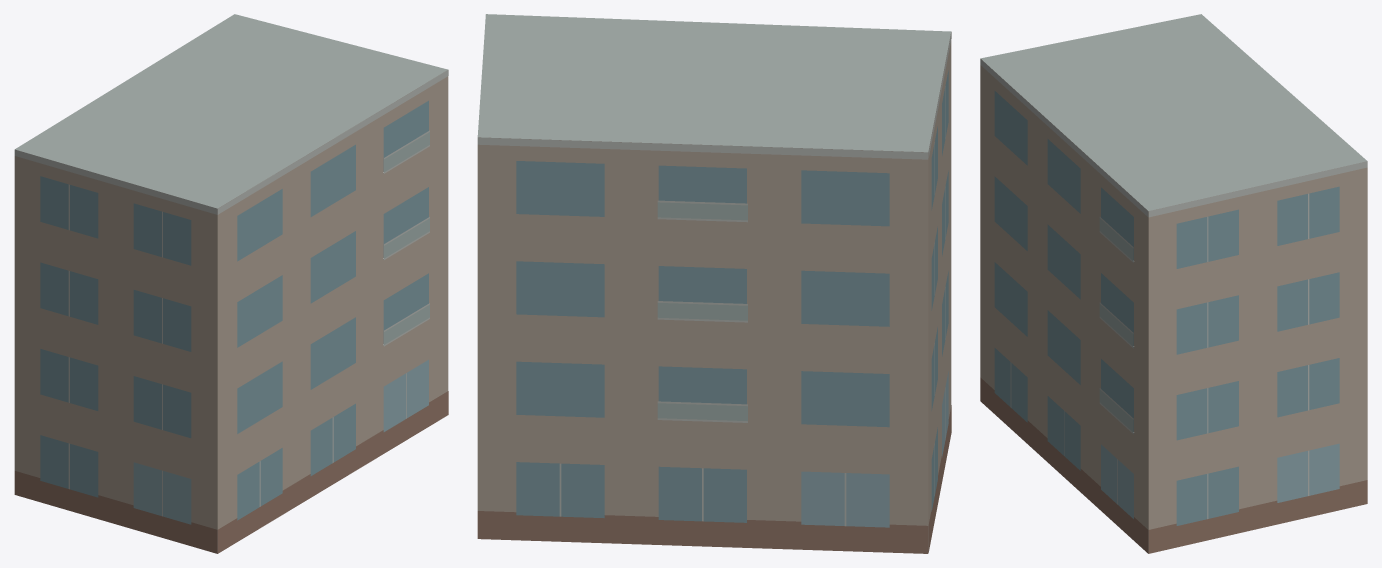
The model's file is survey-upis-32893313.glb.
The picture shows the model from 3 angles, left to right: view 1: azimuth 30°, elevation 25°; view 2: azimuth 150°, elevation 25°; view 3: azimuth 270°, elevation 25°; orthographic projection. The views are drawn at different scales.
Parts seen in each view (by area): view 1: survey-upis-32893313.tmp; view 2: survey-upis-32893313.tmp; view 3: survey-upis-32893313.tmp.
Part boxes in pixels (x1=…): survey-upis-32893313.tmp: x1=14, y1=14, x2=448, y2=553; survey-upis-32893313.tmp: x1=477, y1=14, x2=951, y2=553; survey-upis-32893313.tmp: x1=980, y1=14, x2=1367, y2=553.
Bounding box in the file's own units: 16.3 × 13.2 × 13.53.
